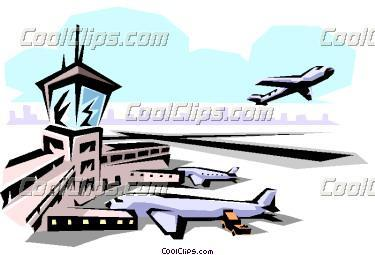aeroplane: (104, 185, 289, 245), (246, 59, 335, 116), (165, 159, 244, 188)
